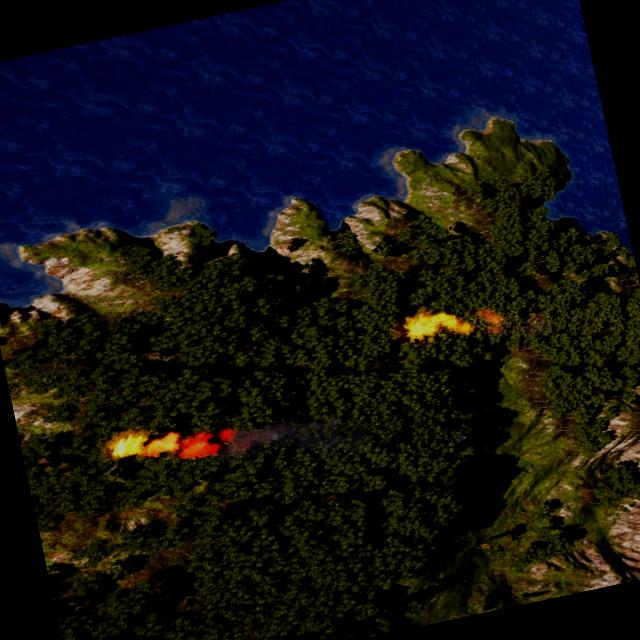fire: (106, 410, 222, 475), (403, 306, 470, 346)
smoke: (162, 383, 412, 492)
